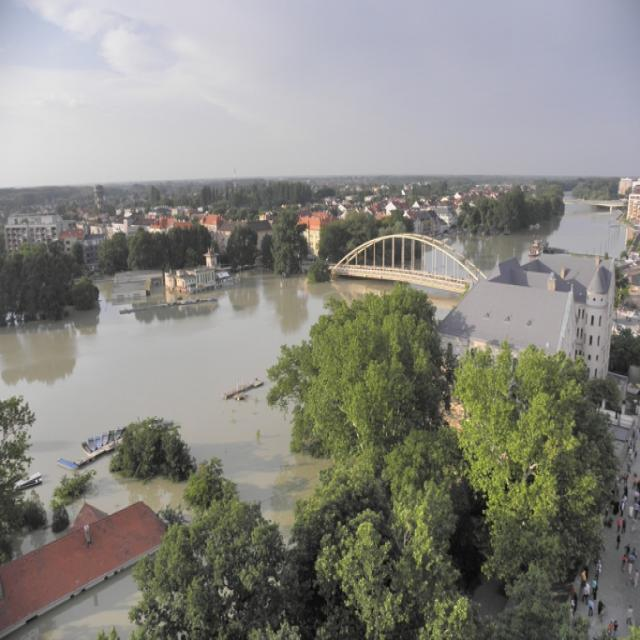flood: (0, 271, 390, 532), (450, 200, 627, 272), (9, 572, 137, 640), (593, 514, 640, 640), (83, 457, 184, 514), (22, 531, 52, 552)
house: (0, 502, 166, 640), (450, 278, 585, 357)
